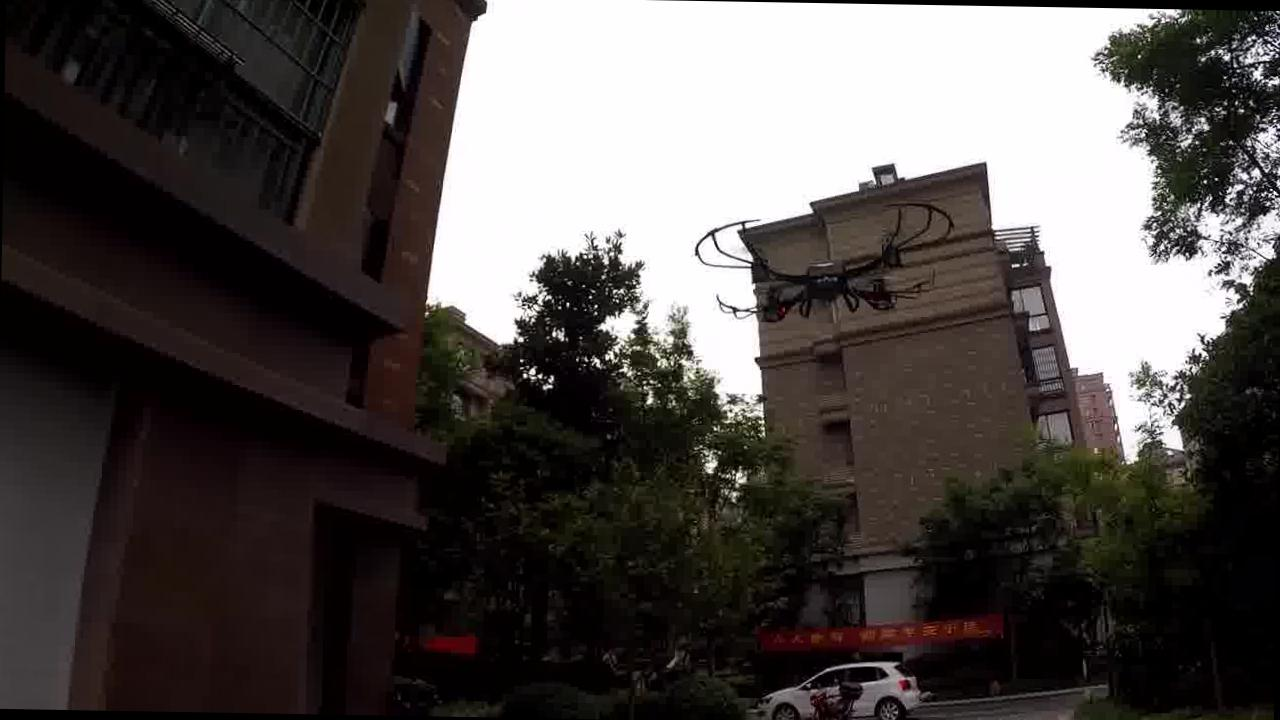drone: (682, 195, 976, 344)
